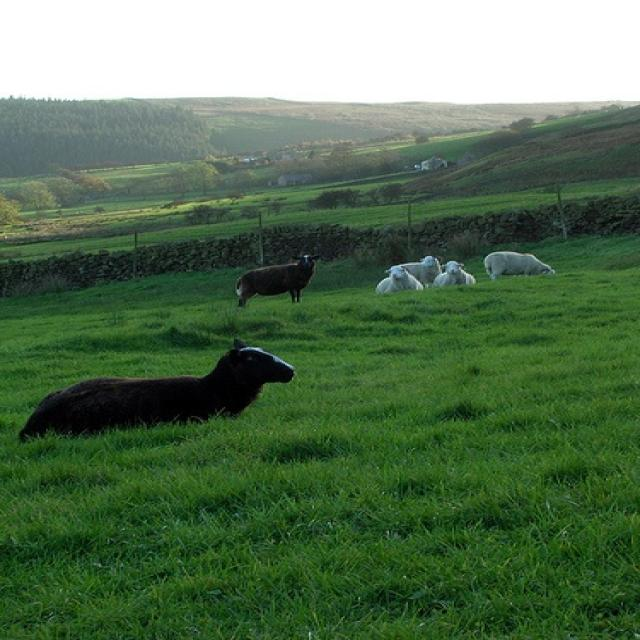sheep: (23, 339, 298, 444), (238, 255, 317, 301), (484, 251, 556, 276), (433, 261, 475, 290), (375, 268, 423, 293), (392, 257, 436, 281)
